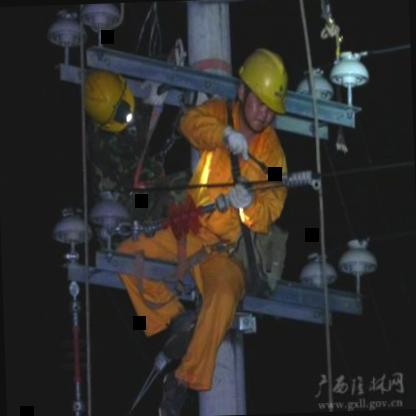helmet: (231, 37, 295, 137), (80, 66, 140, 138)
